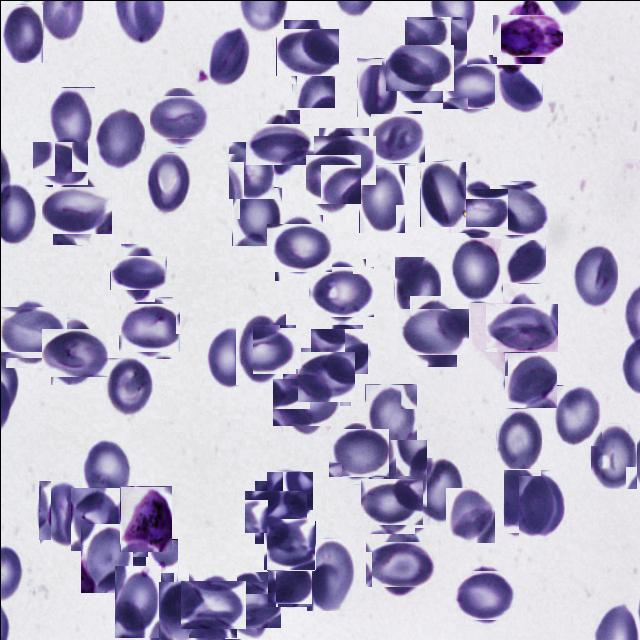difficult: (119, 485, 171, 551), (498, 7, 555, 64)
red blood cell: (0, 301, 61, 362), (492, 296, 552, 358), (230, 318, 290, 378), (372, 534, 432, 594), (502, 468, 554, 537), (80, 523, 132, 592), (404, 18, 464, 77), (82, 435, 132, 505), (403, 301, 462, 360), (46, 180, 106, 238), (306, 538, 354, 610), (414, 457, 465, 524), (450, 237, 502, 302), (311, 262, 369, 320), (314, 130, 372, 188), (114, 565, 160, 637), (46, 322, 103, 380), (390, 39, 448, 96), (364, 383, 416, 446), (48, 86, 94, 157), (270, 218, 326, 276), (278, 373, 334, 430), (183, 576, 240, 632), (358, 163, 404, 232), (103, 356, 155, 417), (70, 487, 120, 550), (457, 566, 513, 622), (219, 576, 275, 632), (278, 24, 334, 80), (589, 422, 636, 488), (517, 474, 564, 540), (95, 107, 144, 170), (394, 256, 440, 322), (572, 241, 618, 307), (419, 160, 465, 226), (251, 116, 306, 171), (120, 300, 176, 354), (127, 538, 177, 598), (382, 438, 426, 506), (330, 425, 384, 480), (503, 351, 556, 407), (231, 186, 281, 245), (38, 479, 82, 546), (206, 323, 252, 387), (553, 384, 601, 445), (492, 182, 546, 236), (446, 58, 500, 112), (364, 474, 418, 528), (298, 349, 352, 403), (313, 324, 366, 377), (306, 152, 359, 205), (495, 407, 541, 468), (144, 151, 190, 211), (249, 485, 301, 538), (445, 488, 494, 544), (370, 112, 422, 164), (153, 90, 205, 142), (451, 184, 503, 236), (227, 140, 273, 198), (291, 45, 334, 107), (264, 520, 315, 570), (158, 581, 201, 640), (206, 26, 249, 84), (493, 63, 542, 112), (36, 138, 84, 188), (356, 57, 396, 116), (265, 470, 312, 518), (4, 4, 42, 62), (114, 250, 160, 296), (267, 560, 311, 606), (501, 238, 545, 282)
